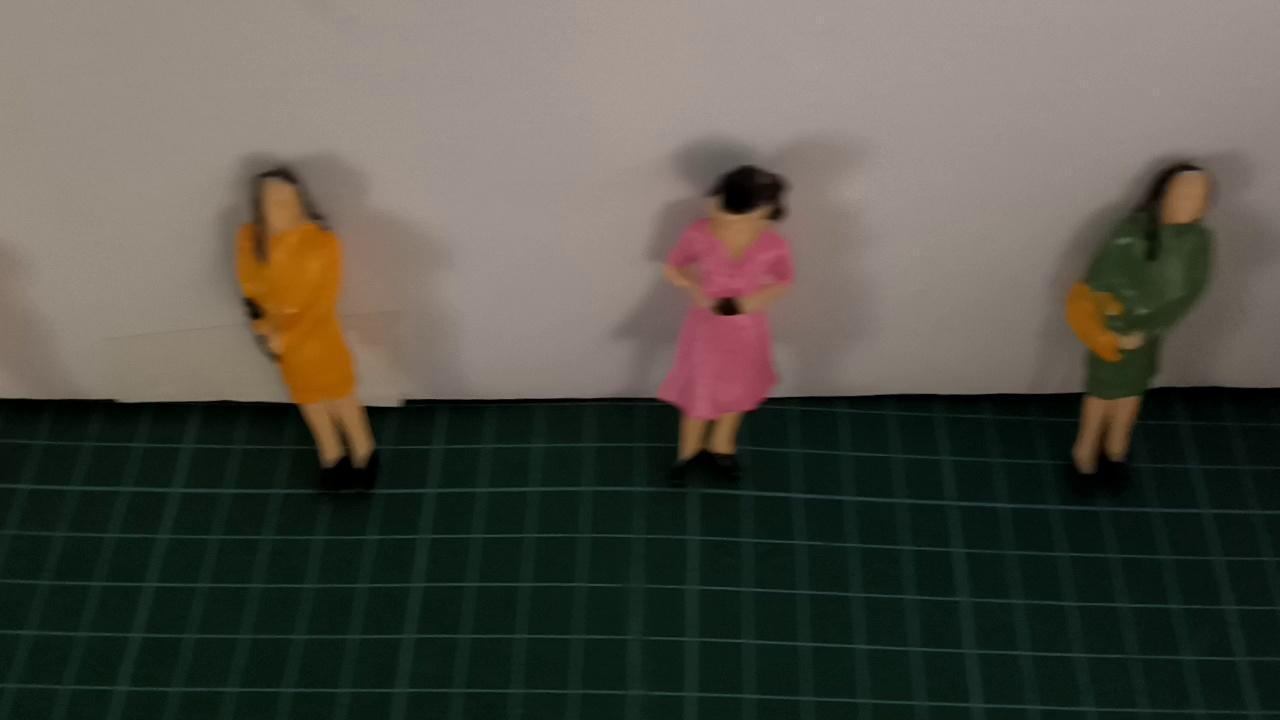human: (1061, 160, 1227, 482), (232, 166, 386, 483), (654, 161, 799, 482)
